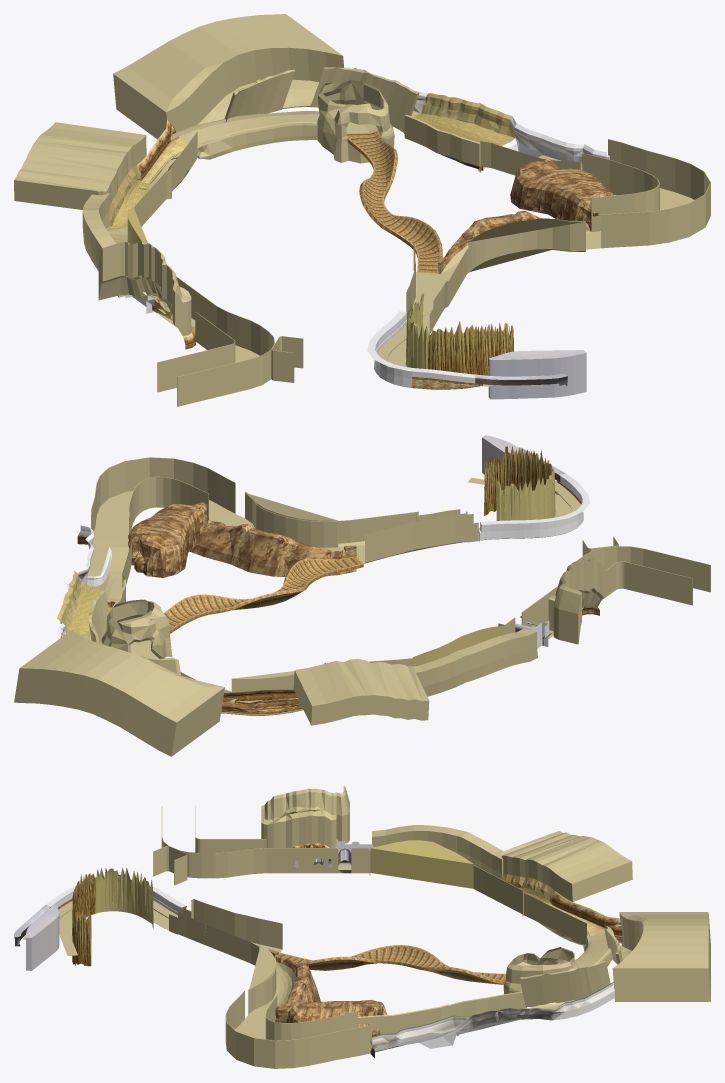
File: SectionB_Collision_unjoined.fbx
3 views of the same model, one above another, from view 1: azimuth 30°, elevation 25°; view 2: azimuth 150°, elevation 25°; view 3: azimuth 270°, elevation 25° (orthographic). The views are drawn at different scales.
Visible parts, largest first — view 1: stg051_og_B08_Mesh_0000, stg051_o_B31_Mesh_0012, stg051_o_B19_Mesh_0000, stg051_o_B31_Mesh_0009, stg051_og_B17_Mesh_0006, stg051_o_B17_Mesh_0004, stg051_o_B15_Mesh_0001, stg051_og_B15_Mesh_0002, stg051_og_B12_Mesh_0001, stg051_o_B30_Mesh_0005; view 2: stg051_og_B08_Mesh_0000, stg051_o_B19_Mesh_0000, stg051_o_B31_Mesh_0009, stg051_o_B31_Mesh_0012, stg051_o_B15_Mesh_0001, stg051_og_B17_Mesh_0006, stg051_og_B10_Mesh_0001.001, stg051_o_B17_Mesh_0004; view 3: stg051_og_B08_Mesh_0000, stg051_o_B31_Mesh_0009, stg051_o_B17_Mesh_0004, stg051_og_B10_Mesh_0001.001, stg051_o_B19_Mesh_0000, stg051_o_B31_Mesh_0012, stg051_o_B15_Mesh_0001, stg051_o_B03_Mesh_0000.
Part boxes in pixels (x1,y1,x2,y2): stg051_og_B08_Mesh_0000: (14,14,710,406); stg051_o_B31_Mesh_0012: (367,311,586,399); stg051_o_B19_Mesh_0000: (444,159,614,265); stg051_o_B31_Mesh_0009: (405,293,513,375); stg051_og_B17_Mesh_0006: (414,93,515,167); stg051_o_B17_Mesh_0004: (346,66,609,170); stg051_o_B15_Mesh_0001: (109,120,175,226); stg051_og_B15_Mesh_0002: (140,137,188,188); stg051_og_B12_Mesh_0001: (110,179,148,228); stg051_o_B30_Mesh_0005: (412,377,482,389); stg051_og_B08_Mesh_0000: (14,457,710,756); stg051_o_B19_Mesh_0000: (128,502,356,577); stg051_o_B31_Mesh_0009: (484,446,555,520); stg051_o_B31_Mesh_0012: (478,435,589,541); stg051_o_B15_Mesh_0001: (221,689,303,715); stg051_og_B17_Mesh_0006: (57,571,112,635); stg051_og_B10_Mesh_0001.001: (412,625,504,666); stg051_o_B17_Mesh_0004: (58,525,111,637); stg051_og_B08_Mesh_0000: (22,785,710,1068); stg051_o_B31_Mesh_0009: (72,867,153,966); stg051_o_B17_Mesh_0004: (370,981,614,1057); stg051_og_B10_Mesh_0001.001: (370,840,473,888); stg051_o_B19_Mesh_0000: (275,955,387,1036); stg051_o_B31_Mesh_0012: (14,879,186,970); stg051_o_B15_Mesh_0001: (501,873,622,943); stg051_o_B03_Mesh_0000: (294,839,373,873).
Size of the model in its own units: 69903 by 11577 by 84461.
